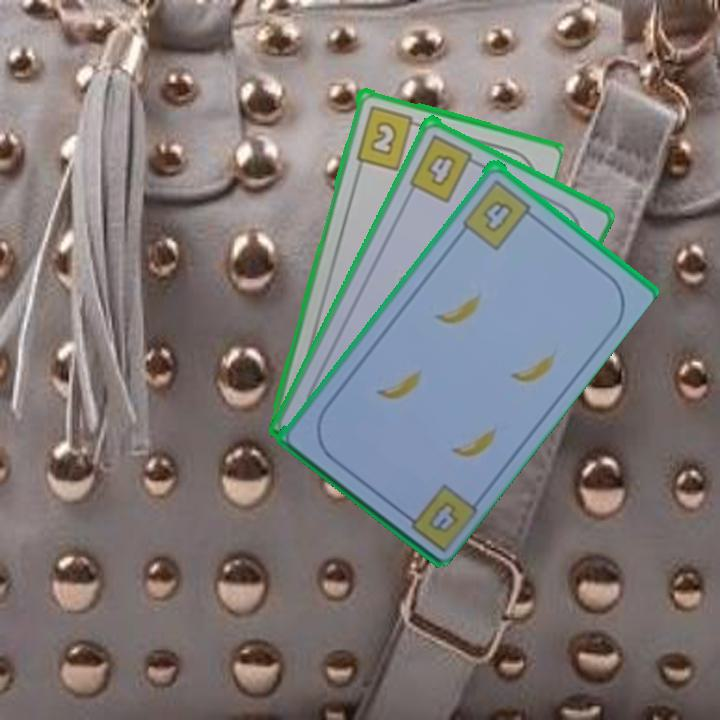2b: (352, 102, 424, 172)
4b: (395, 478, 479, 554), (459, 175, 539, 252), (405, 130, 484, 205)
